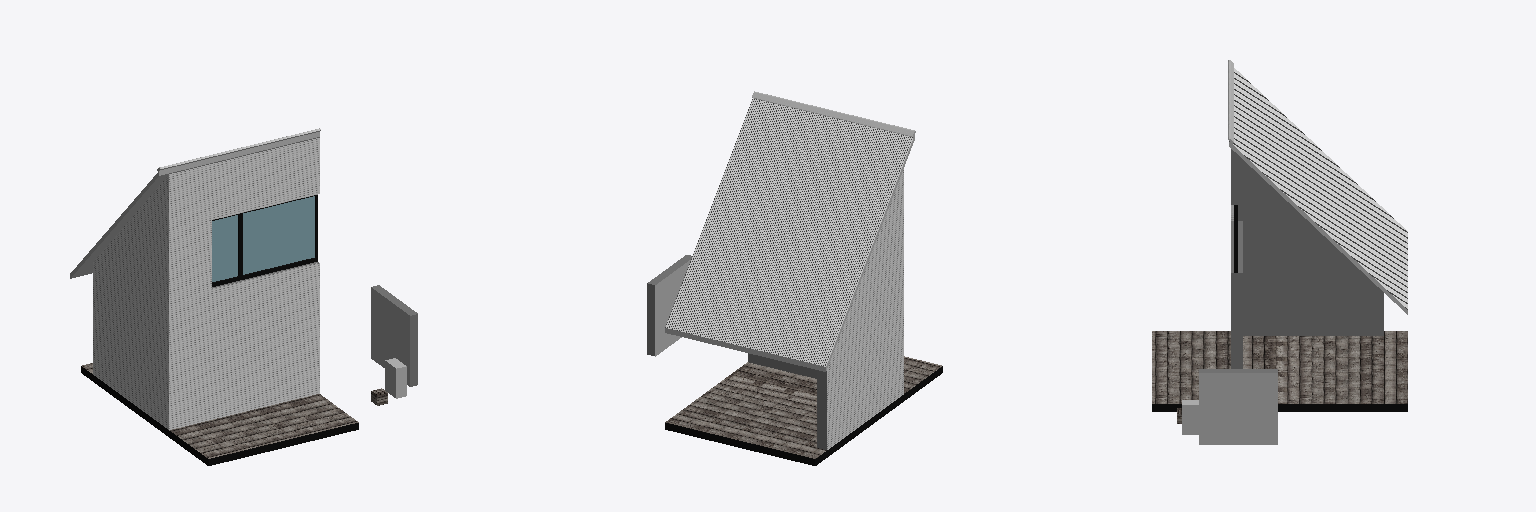
3 renders of one model, left to right at view 1: azimuth 30°, elevation 25°; view 2: azimuth 150°, elevation 25°; view 3: azimuth 270°, elevation 25°, orthographic.
Parts seen in each view (by area): view 1: UNITY_Bois_Blanc_Horizontal_Existant_2, UNITY_Plancher_Bois_Gris_90deg, Aluminex_Glass, UNITY_Aluminex_Frame, UNITY_Beton, UNITY_Gris, Mur_par_défaut, UNITY_Teak; view 2: UNITY_Taule_4"_90deg, UNITY_Bois_Blanc_Horizontal_Existant_2, UNITY_Plancher_Bois_Gris_90deg, UNITY_Aluminex_Frame, Mur_par_défaut, UNITY_Beton, UNITY_Gris, UNITY_Crete, UNITY_Gypsum_Wall_Board; view 3: UNITY_Gypsum_Wall_Board, UNITY_Plancher_Bois_Gris_90deg, UNITY_Taule_4"_90deg, UNITY_Brique, Mur_par_défaut, UNITY_Aluminex_Frame, UNITY_Gris, UNITY_Teak.
Part boxes in pixels (x1,y1,x2,y2): UNITY_Bois_Blanc_Horizontal_Existant_2: (93,138,319,429); UNITY_Plancher_Bois_Gris_90deg: (82,363,387,458); Aluminex_Glass: (212,196,314,281); UNITY_Aluminex_Frame: (81,195,358,465); UNITY_Beton: (371,287,409,386); UNITY_Gris: (70,132,319,278); Mur_par_défaut: (372,285,417,386); UNITY_Teak: (385,358,406,398); UNITY_Taule_4"_90deg: (665,98,912,366); UNITY_Bois_Blanc_Horizontal_Existant_2: (827,169,903,449); UNITY_Plancher_Bois_Gris_90deg: (665,356,941,458); UNITY_Aluminex_Frame: (665,366,942,465); Mur_par_défaut: (647,255,826,449); UNITY_Beton: (655,260,690,356); UNITY_Gris: (665,135,914,371); UNITY_Crete: (752,91,915,137); UNITY_Gypsum_Wall_Board: (748,353,816,378); UNITY_Gypsum_Wall_Board: (1231,160,1383,335); UNITY_Plancher_Bois_Gris_90deg: (1152,331,1407,423); UNITY_Taule_4"_90deg: (1229,68,1407,309); UNITY_Brique: (1199,373,1277,444); Mur_par_défaut: (1199,149,1277,372); UNITY_Aluminex_Frame: (1152,205,1407,411); UNITY_Gris: (1229,142,1407,314); UNITY_Teak: (1182,400,1198,434).
Bounding box in the file's own units: 23.44 × 25.09 × 21.25.
12 materials, 3 textured.